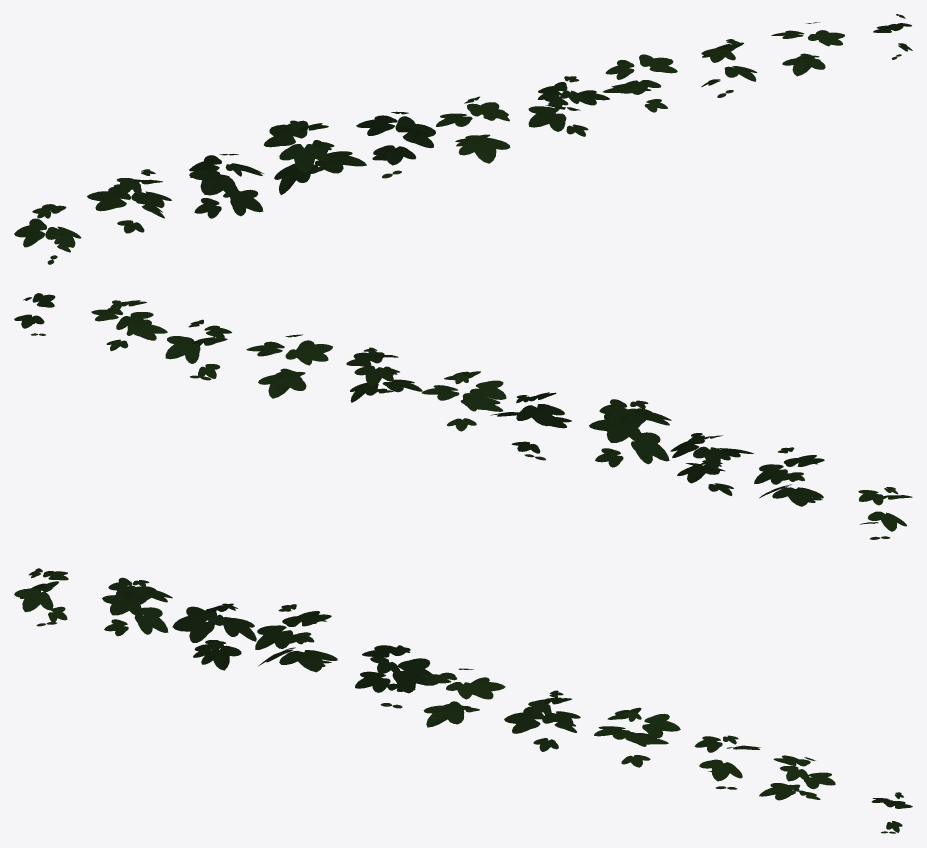
The model's file is ROW_15_SEG5_foliage.dae.
3 renders of one model, top to bottom at view 1: azimuth 30°, elevation 25°; view 2: azimuth 150°, elevation 25°; view 3: azimuth 330°, elevation 25°, orthographic.
Parts seen in each view (by area): view 1: ROW_15_SEG5_foliage; view 2: ROW_15_SEG5_foliage; view 3: ROW_15_SEG5_foliage.
Boxes of the visible parts, left/top/right/bottom form: ROW_15_SEG5_foliage: left=14, top=14, right=912, bottom=264; ROW_15_SEG5_foliage: left=14, top=293, right=912, bottom=539; ROW_15_SEG5_foliage: left=14, top=568, right=912, bottom=833.
Size of the model in its own units: 3.18 by 0.3307 by 0.2712.
